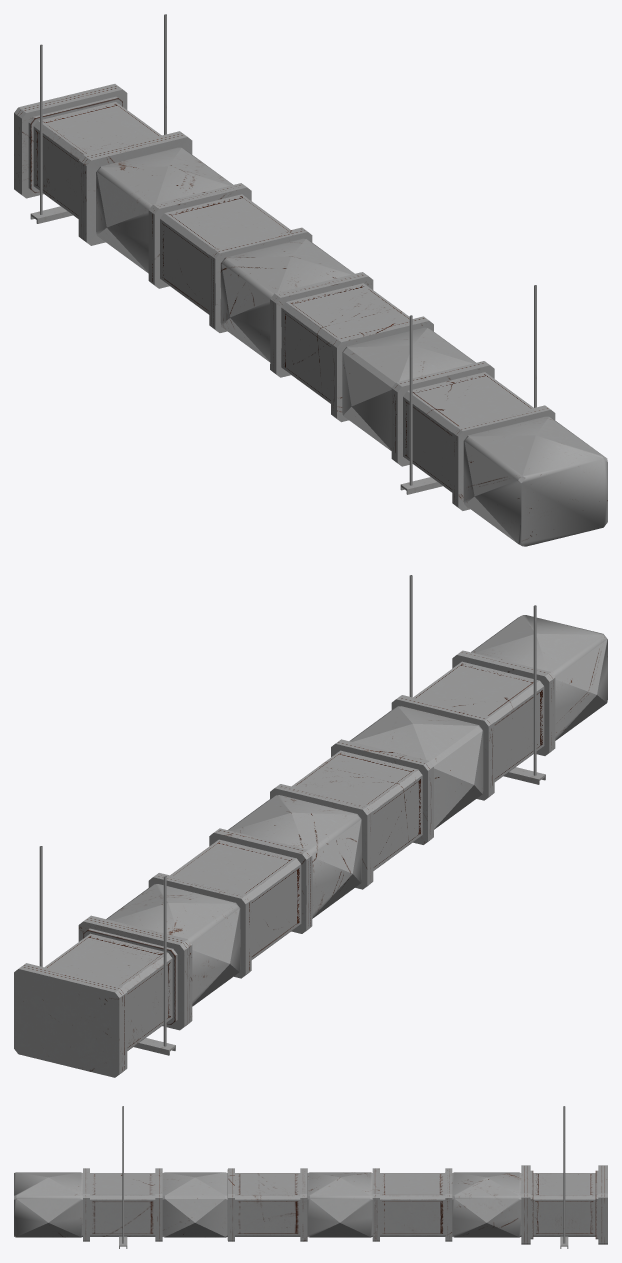
The model's file is Prop_Air_Ducts.fbx.
3 renders of one model, top to bottom at view 1: azimuth 30°, elevation 25°; view 2: azimuth 150°, elevation 25°; view 3: azimuth 270°, elevation 25°, orthographic. The views are drawn at different scales.
Visible parts, largest first — view 1: Prop_Air_Ducts; view 2: Prop_Air_Ducts; view 3: Prop_Air_Ducts.
Boxes of the visible parts, x1,y1,x2,y2 form: Prop_Air_Ducts: (14, 14, 607, 546); Prop_Air_Ducts: (14, 575, 607, 1077); Prop_Air_Ducts: (14, 1106, 607, 1248).
Bounding box in the file's own units: 46.19 × 57.74 × 288.
